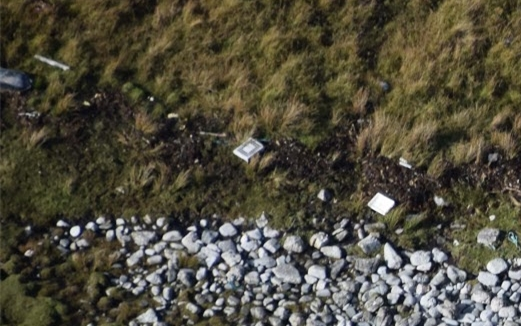cuboid: (228, 131, 268, 166), (360, 183, 400, 218)
straight_bar: (29, 46, 73, 75)
